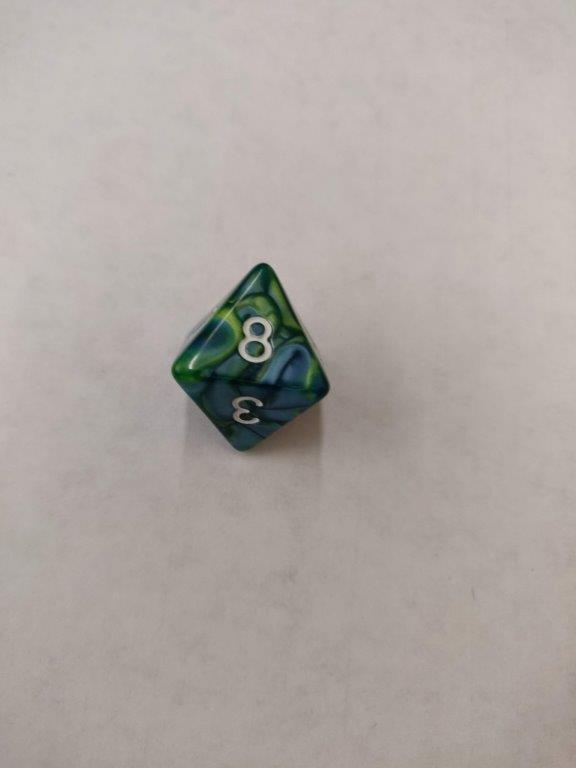d8-8: (169, 261, 329, 454)
